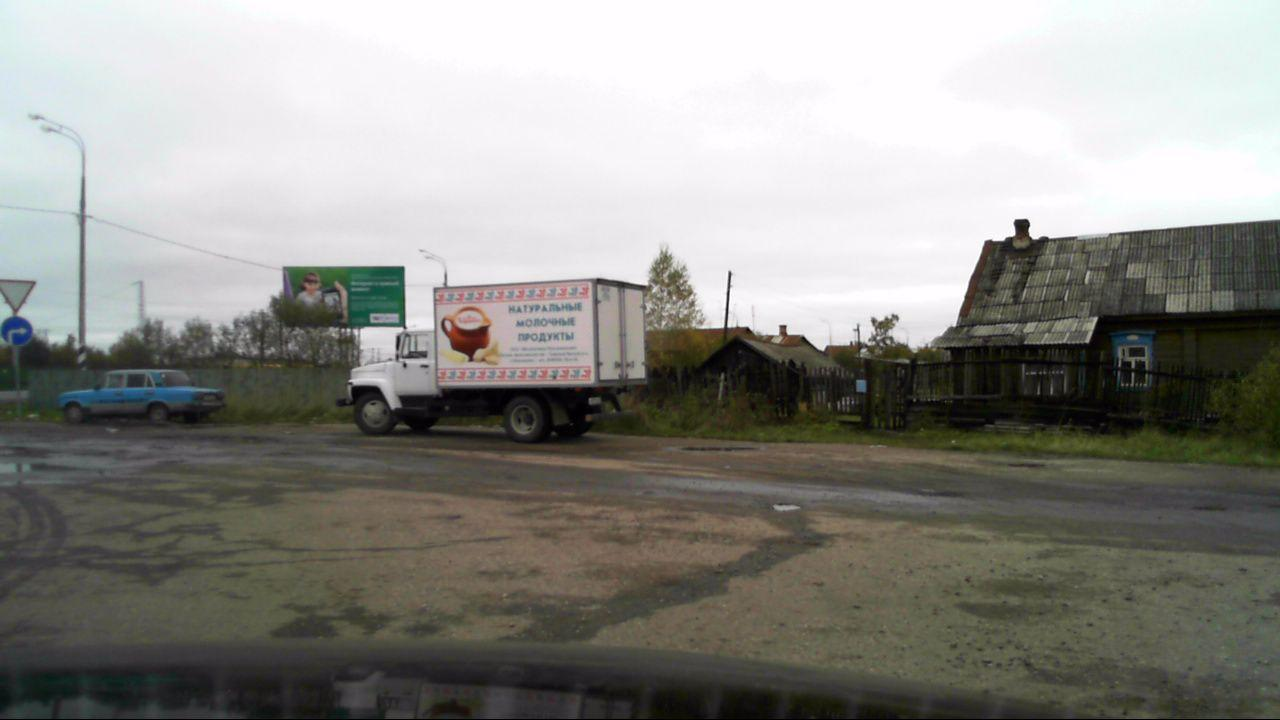pothole: (771, 502, 806, 513)
road_sign: (0, 279, 36, 313), (0, 316, 33, 346)
